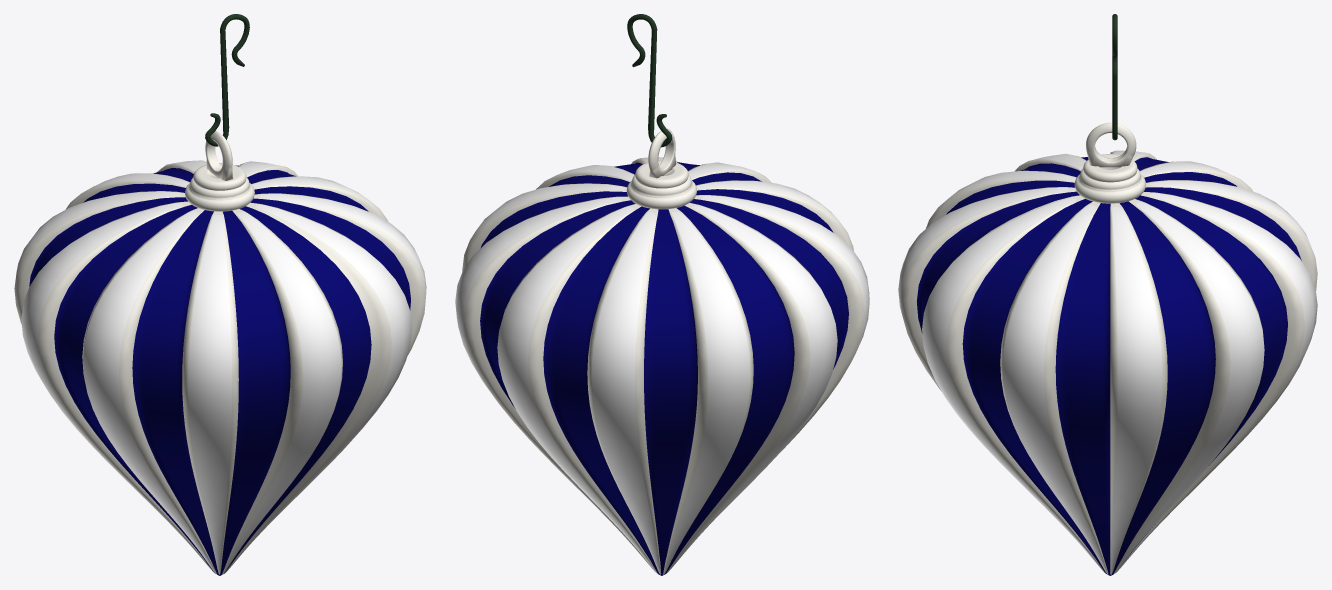
File: Pallina_natalizzia_12.fbx
The picture shows the model from 3 angles, left to right: view 1: azimuth 30°, elevation 25°; view 2: azimuth 150°, elevation 25°; view 3: azimuth 270°, elevation 25°; orthographic projection. The views are drawn at different scales.
Visible parts, largest first — view 1: Pallina_natalizzia_12; view 2: Pallina_natalizzia_12; view 3: Pallina_natalizzia_12.
Boxes of the visible parts, <box> form: Pallina_natalizzia_12: <box>14,14,426,575</box>; Pallina_natalizzia_12: <box>455,14,869,575</box>; Pallina_natalizzia_12: <box>898,14,1317,575</box>.
Bounding box in the file's own units: 11.67 × 17.37 × 11.62.
